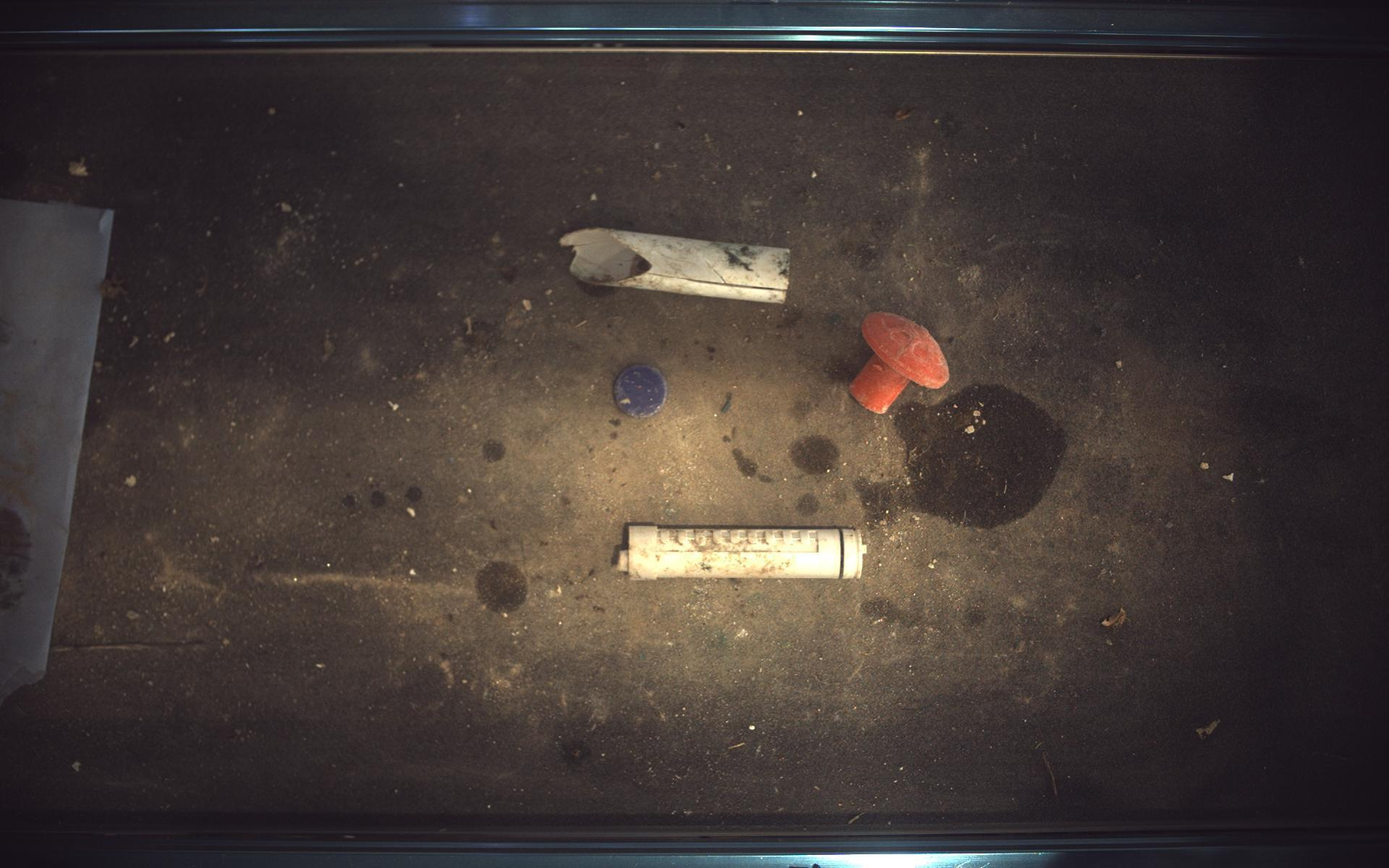plastic: (560, 227, 791, 302), (614, 525, 867, 580)
